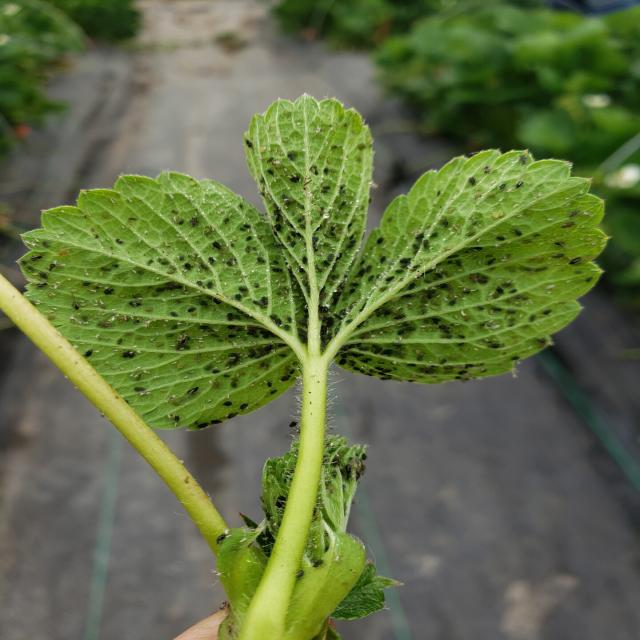Aphid-Grouped-: (134, 205, 302, 403), (354, 229, 506, 379), (260, 148, 358, 322)
